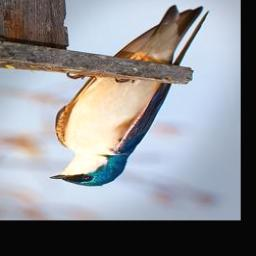Swallow: (48, 5, 211, 188)
